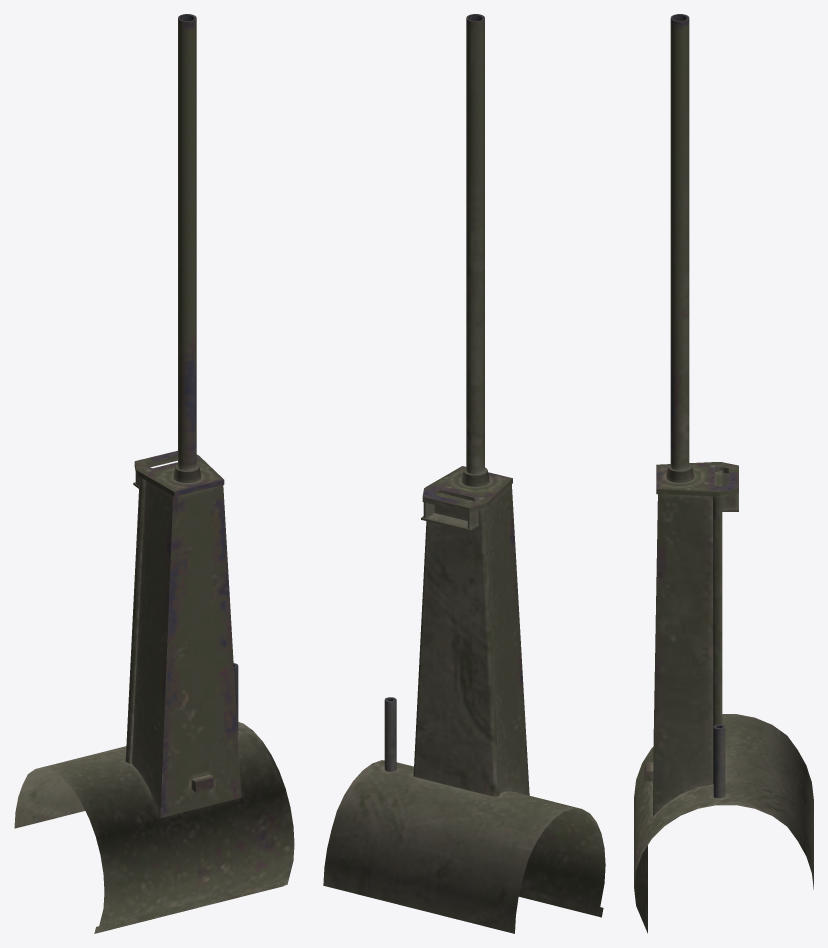
The model's file is Gun_04.glb.
3 renders of one model, left to right at view 1: azimuth 30°, elevation 25°; view 2: azimuth 150°, elevation 25°; view 3: azimuth 270°, elevation 25°, orthographic.
Parts seen in each view (by area): view 1: set_0_group_0; view 2: set_0_group_0; view 3: set_0_group_0.
Part boxes in pixels (<box>): set_0_group_0: <box>14,14,294,933</box>; set_0_group_0: <box>323,14,605,933</box>; set_0_group_0: <box>634,14,813,933</box>.
Bounding box in the file's own units: 0.6016 × 2.61 × 0.4852.
1 material, 1 textured.
